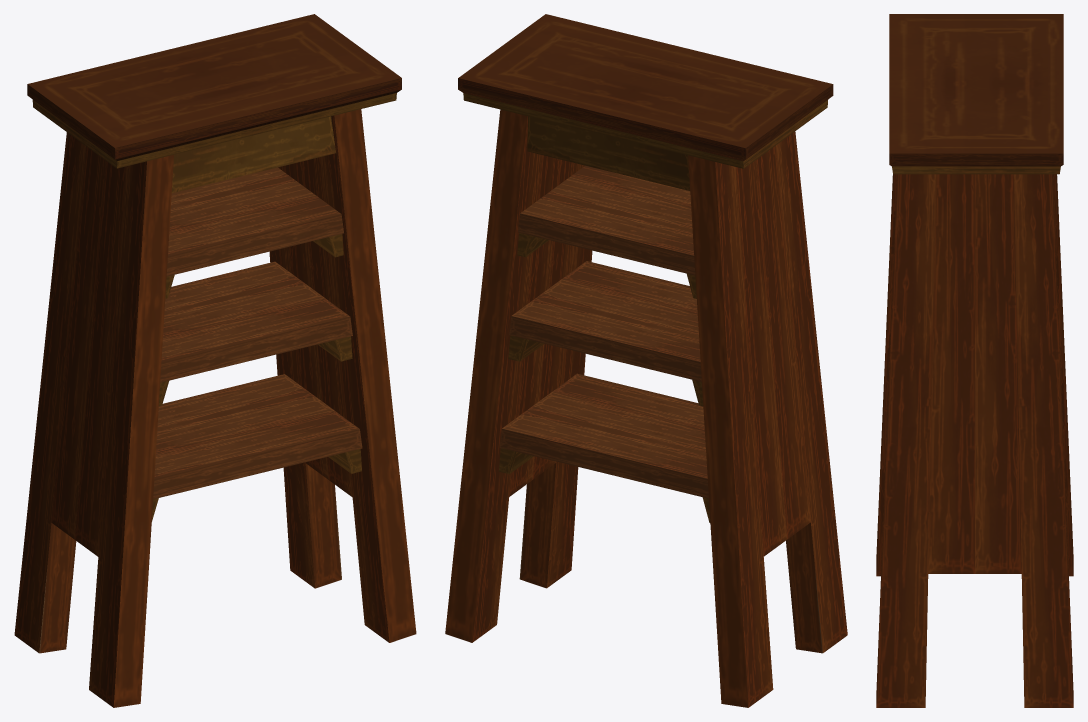
Rendered from nightstand_shelf.glb.
The picture shows the model from 3 angles, left to right: view 1: azimuth 30°, elevation 25°; view 2: azimuth 150°, elevation 25°; view 3: azimuth 270°, elevation 25°; orthographic projection.
Parts seen in each view (by area): view 1: Nightstand_Shelf; view 2: Nightstand_Shelf; view 3: Nightstand_Shelf.
Part boxes in pixels (box(x1,y1,x2,y2)): Nightstand_Shelf: box(14, 14, 416, 707); Nightstand_Shelf: box(445, 14, 847, 707); Nightstand_Shelf: box(876, 14, 1073, 707).
Size of the model in its own units: 0.6933 by 1.22 by 0.3935.
Materials: 1 (1 with a texture image).
